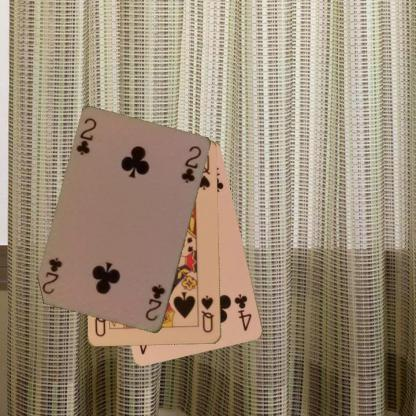2c: (74, 116, 98, 157), (143, 282, 166, 323)
4c: (232, 291, 253, 333)
Qs: (198, 293, 216, 334)
